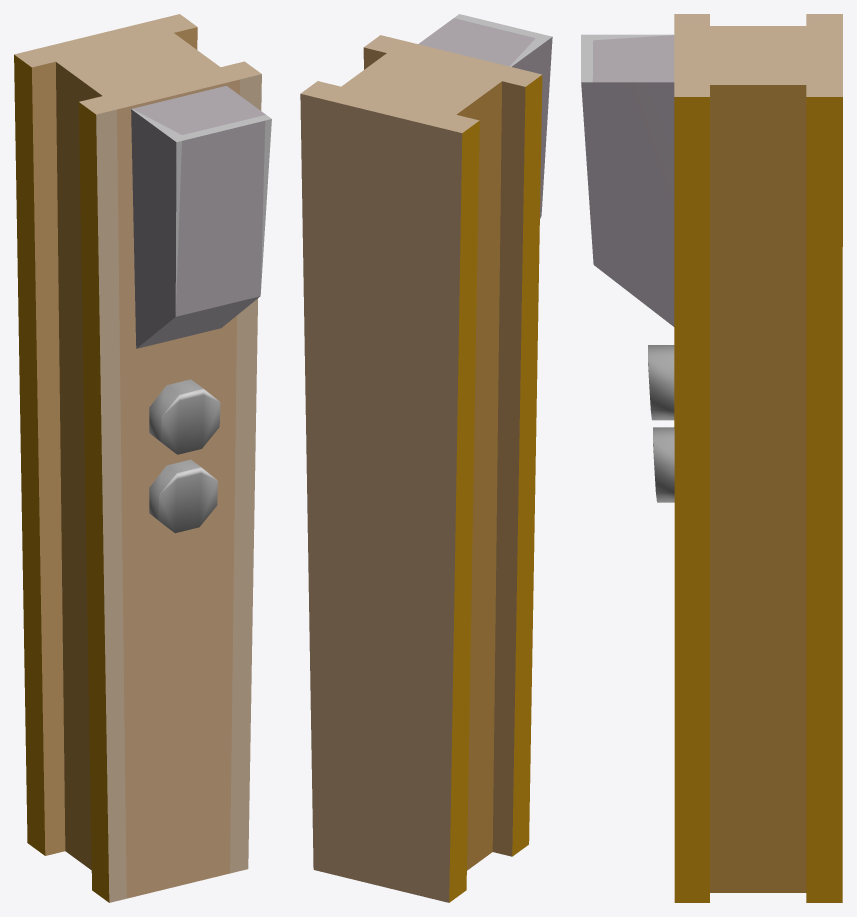
File: TrainPost_0.glb
3 views of the same model, side by side, from view 1: azimuth 30°, elevation 25°; view 2: azimuth 150°, elevation 25°; view 3: azimuth 270°, elevation 25° (orthographic). The views are drawn at different scales.
Parts seen in each view (by area): view 1: TrainPost; view 2: TrainPost; view 3: TrainPost.
Boxes of the visible parts, x1=… form: TrainPost: x1=14, y1=14, x2=271, y2=902; TrainPost: x1=300, y1=14, x2=552, y2=902; TrainPost: x1=581, y1=14, x2=842, y2=902.
Bounding box in the file's own units: 0.3795 × 1.73 × 0.5053.
